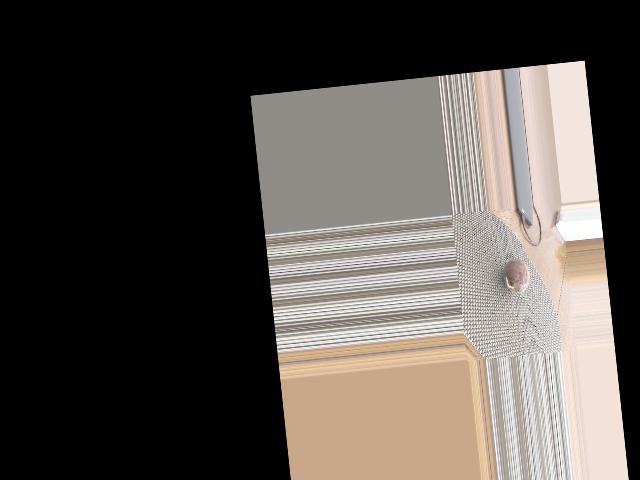beet: (501, 256, 531, 293)
